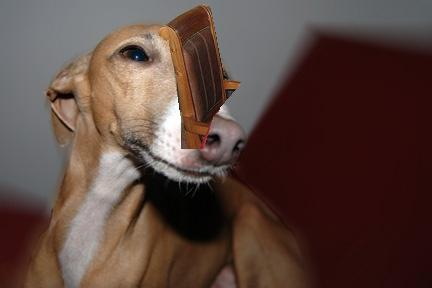tampered: (159, 4, 241, 149)
